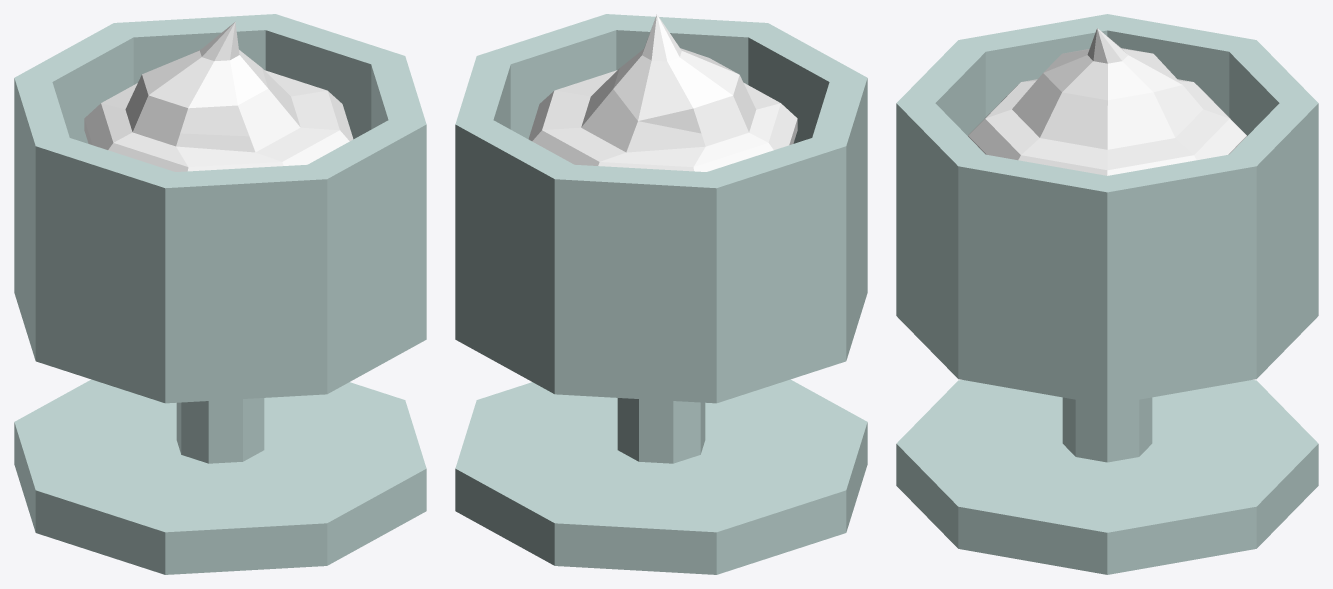
The model's file is Food_Parfait.fbx.
3 renders of one model, left to right at view 1: azimuth 30°, elevation 25°; view 2: azimuth 150°, elevation 25°; view 3: azimuth 270°, elevation 25°, orthographic.
Visible parts, largest first — view 1: Cylinder.005; view 2: Cylinder.005; view 3: Cylinder.005.
Boxes of the visible parts, x1,y1,x2,y2 form: Cylinder.005: [14, 14, 426, 574]; Cylinder.005: [455, 14, 867, 574]; Cylinder.005: [896, 14, 1318, 574].
Bounding box in the file's own units: 13.55 × 16.39 × 13.55.
